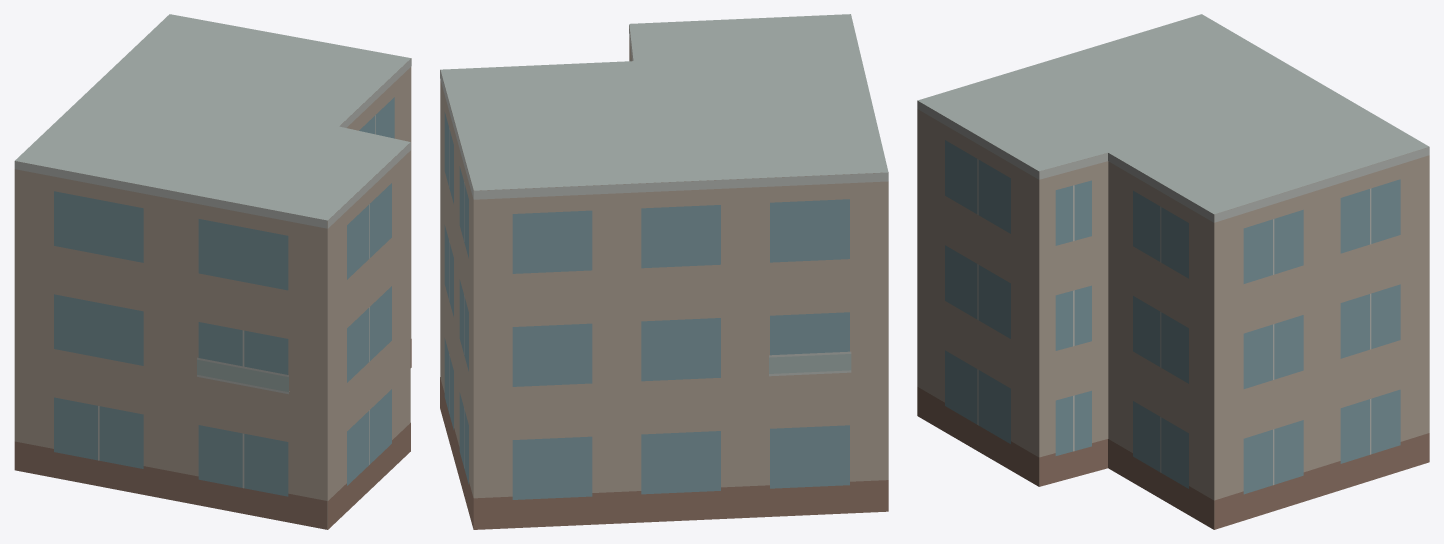
The model's file is survey-upis-32910302.glb.
The picture shows the model from 3 angles, left to right: view 1: azimuth 30°, elevation 25°; view 2: azimuth 150°, elevation 25°; view 3: azimuth 270°, elevation 25°; orthographic projection. The views are drawn at different scales.
Parts seen in each view (by area): view 1: survey-upis-32910302.tmp; view 2: survey-upis-32910302.tmp; view 3: survey-upis-32910302.tmp.
Part boxes in pixels (bbox=[...]): survey-upis-32910302.tmp: bbox=[14, 14, 411, 529]; survey-upis-32910302.tmp: bbox=[440, 14, 888, 529]; survey-upis-32910302.tmp: bbox=[917, 14, 1429, 529].
Size of the model in its own units: 12.48 by 9.15 by 13.47.
